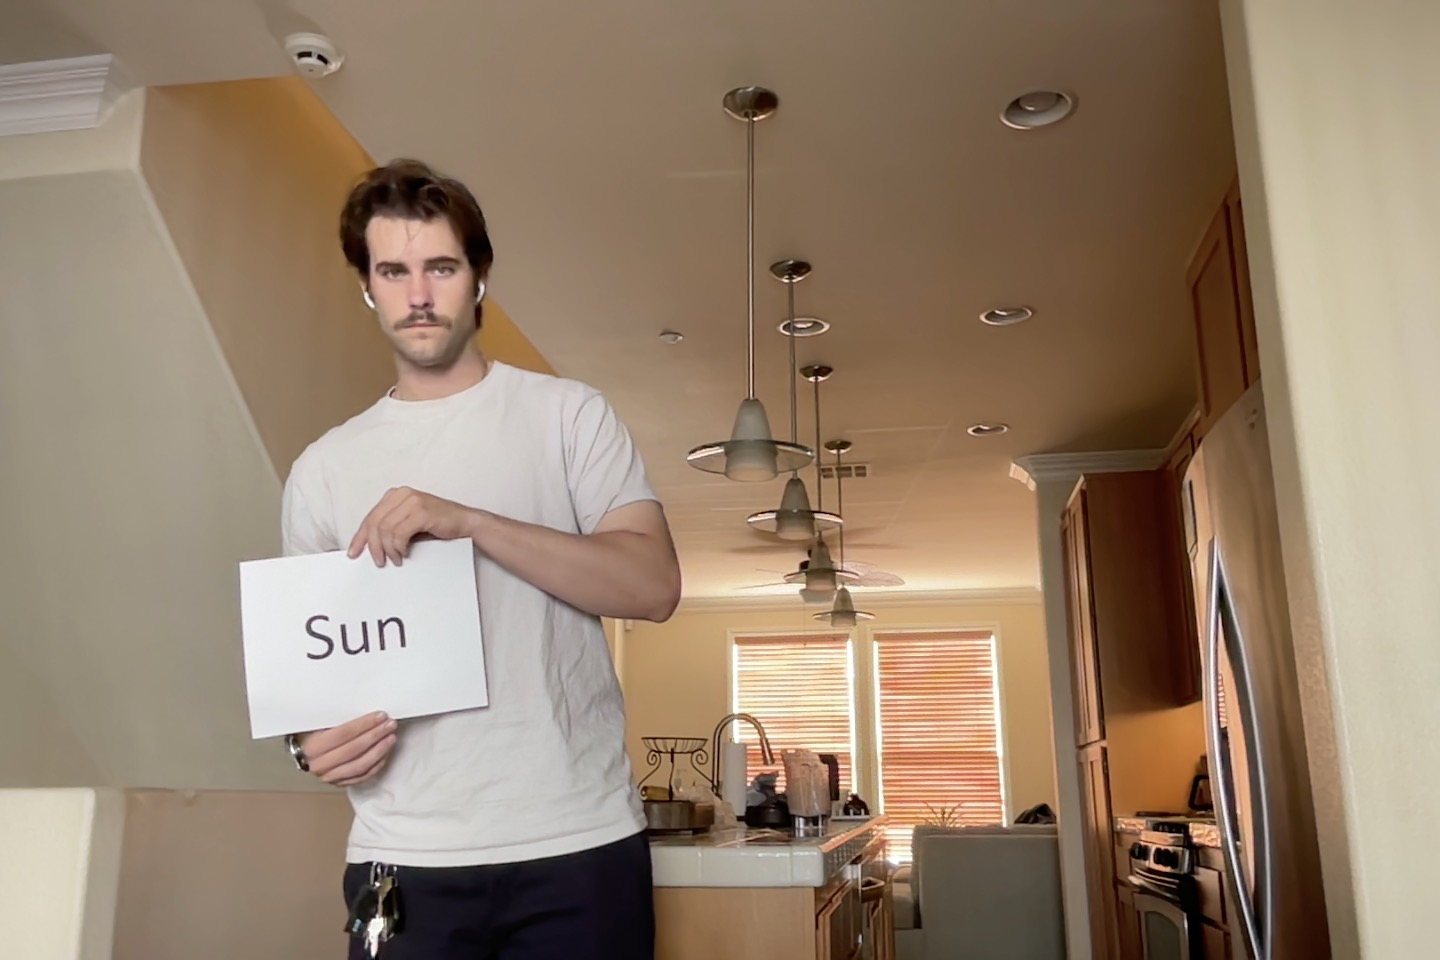word: (301, 612, 408, 664)
